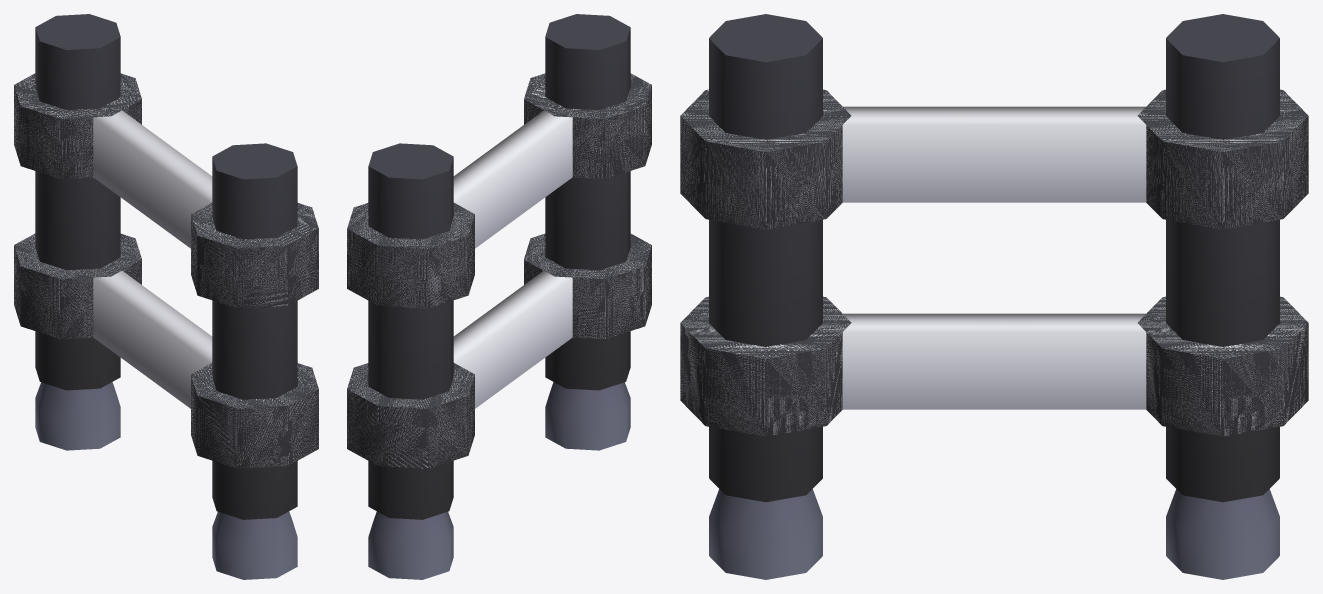
Rendered from structure-yellow-medium.obj.
3 views of the same model, side by side, from view 1: azimuth 30°, elevation 25°; view 2: azimuth 150°, elevation 25°; view 3: azimuth 270°, elevation 25° (orthographic). The views are drawn at different scales.
Parts seen in each view (by area): view 1: structure-yellow-medium; view 2: structure-yellow-medium; view 3: structure-yellow-medium.
Part boxes in pixels (x1,y1,x2,y2): structure-yellow-medium: (14,14,318,579); structure-yellow-medium: (347,14,651,579); structure-yellow-medium: (680,14,1308,579).
Size of the model in its own units: 0.3 by 1 by 1.1.
